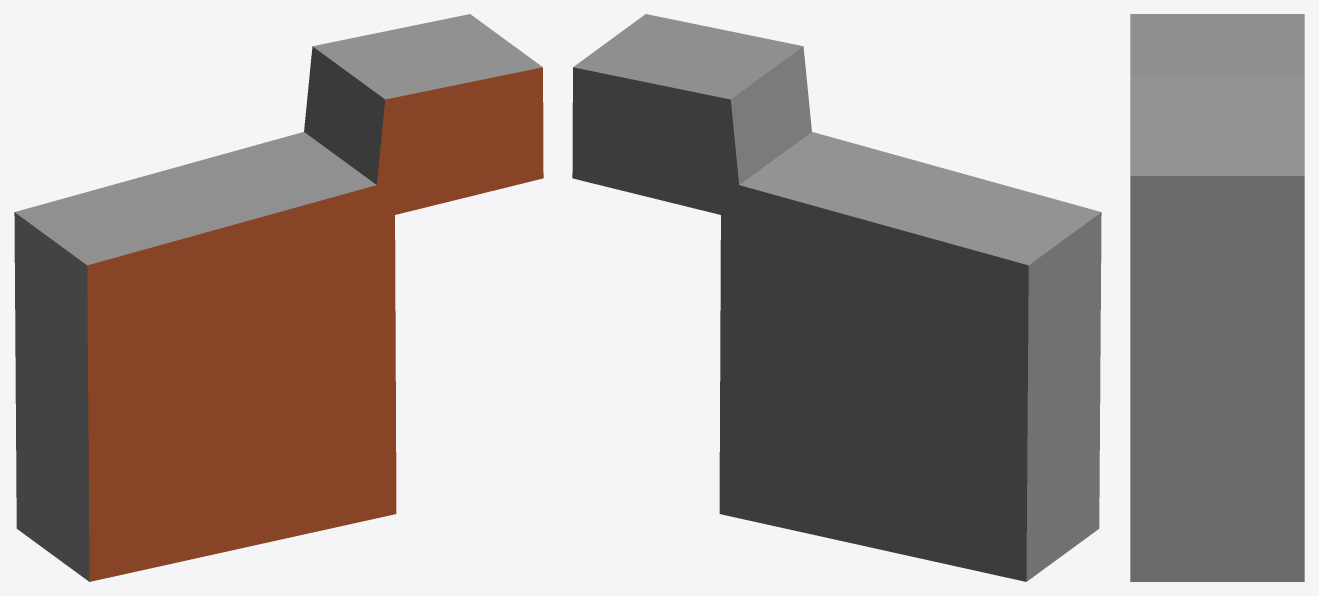
File: construction_6951_assumed_A_Casa_h6m.obj
The picture shows the model from 3 angles, left to right: view 1: azimuth 30°, elevation 25°; view 2: azimuth 150°, elevation 25°; view 3: azimuth 270°, elevation 25°; orthographic projection. The views are drawn at different scales.
Parts seen in each view (by area): view 1: construction_6951_assumed_A_Casa; view 2: construction_6951_assumed_A_Casa; view 3: construction_6951_assumed_A_Casa.
Part boxes in pixels (x1,y1,x2,y2): construction_6951_assumed_A_Casa: [14, 14, 543, 581]; construction_6951_assumed_A_Casa: [572, 14, 1101, 581]; construction_6951_assumed_A_Casa: [1130, 14, 1304, 581].
Size of the model in its own units: 21.71 by 18.97 by 6.
